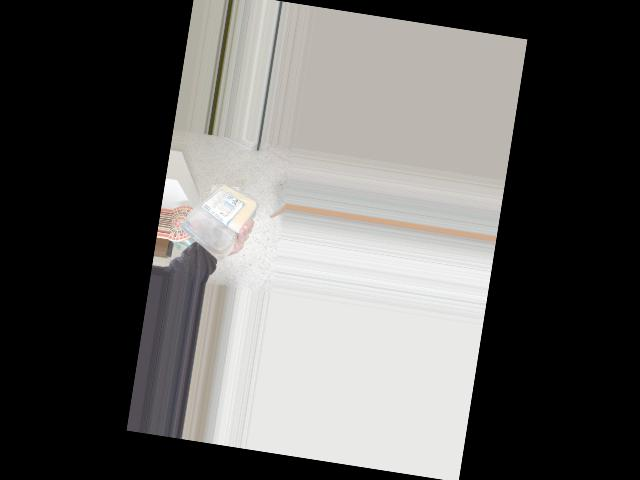cheese: (176, 171, 253, 255)
